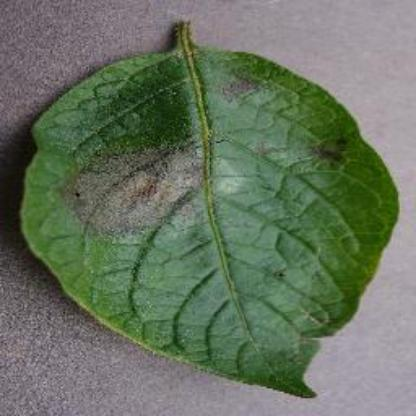Late-Blight: (16, 13, 402, 397)
